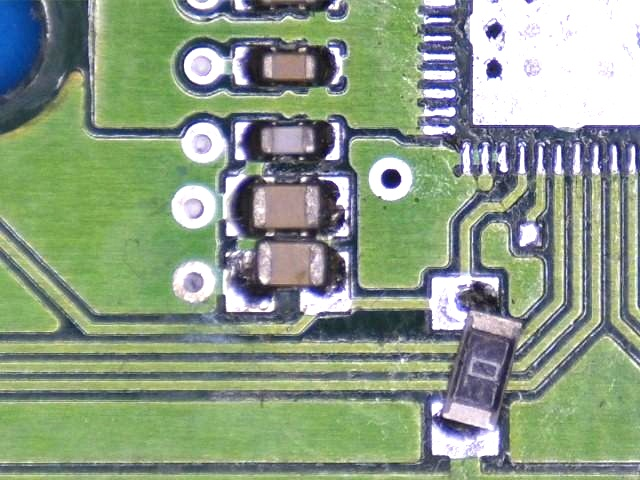pcb_defect: (429, 275, 525, 458), (224, 241, 350, 313)
